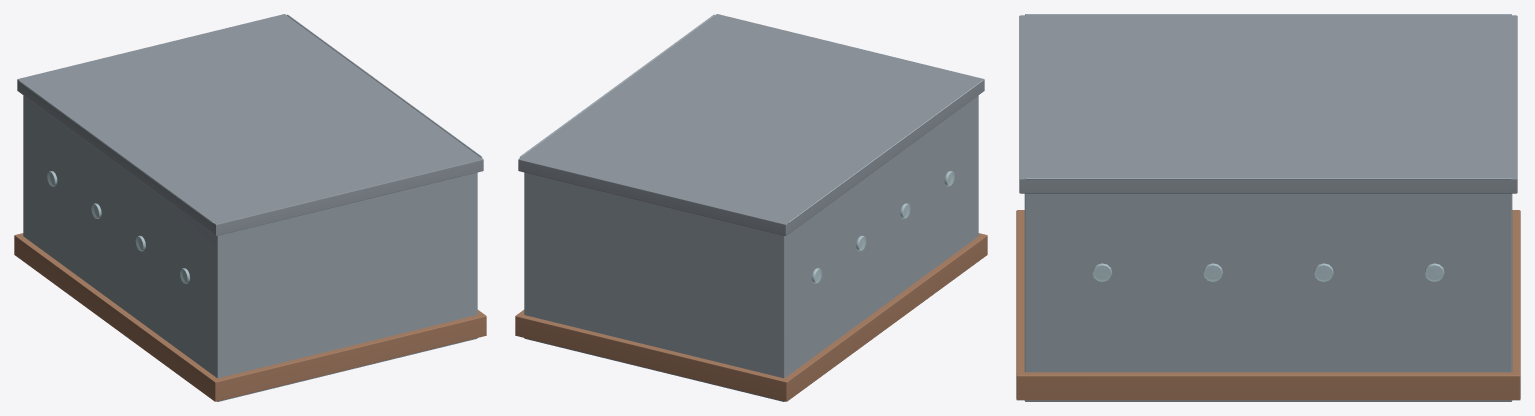
The model's file is hull_mid.glb.
The picture shows the model from 3 angles, left to right: view 1: azimuth 30°, elevation 25°; view 2: azimuth 150°, elevation 25°; view 3: azimuth 270°, elevation 25°; orthographic projection. The views are drawn at different scales.
Parts seen in each view (by area): view 1: hull_mid; view 2: hull_mid; view 3: hull_mid.
Boxes of the visible parts, <box> form: hull_mid: <box>14,14,486,401</box>; hull_mid: <box>515,14,987,401</box>; hull_mid: <box>1016,14,1520,401</box>.
Bounding box in the file's own units: 7.1 × 4.52 × 9.1.
